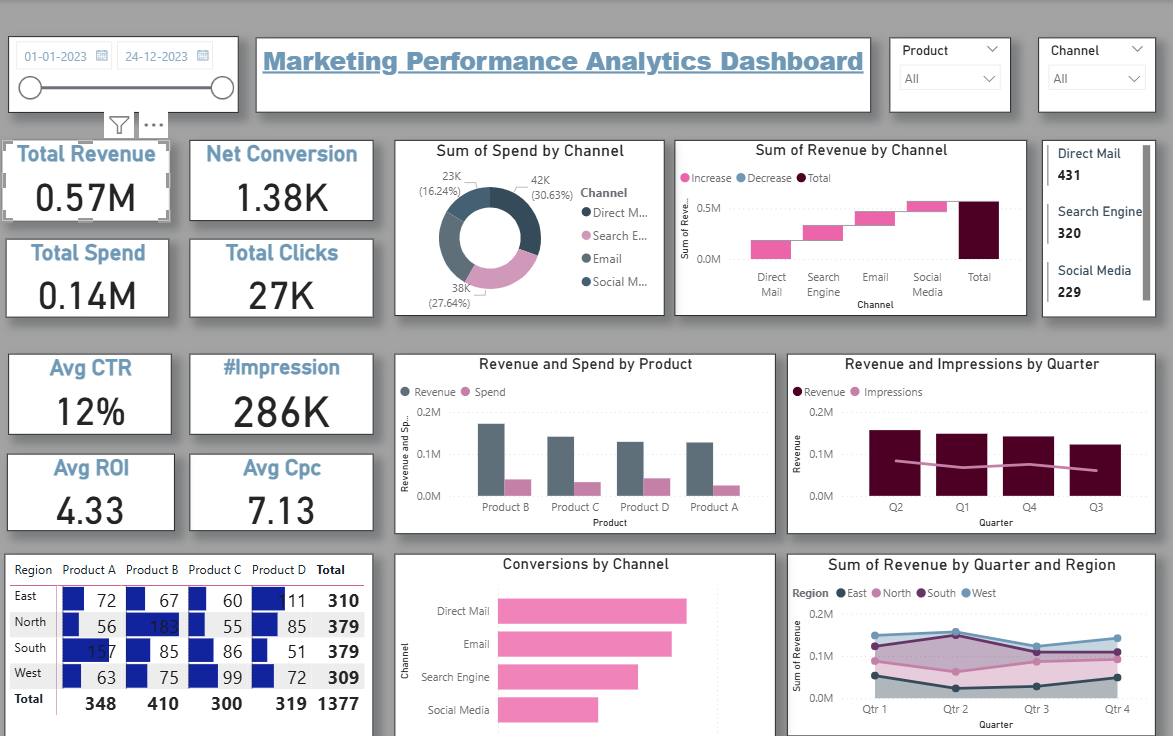

What the dashboard file says about the page in this screenshot:
{"tool":"powerbi","page":{"name":"Revenue Analysis","canvas":[1280,800],"ordinal":0},"visuals":[{"type":"card","title":"Total Clicks","fields":{"Values":["Sum(Sheet1.Clicks)"]},"box":[209.2,259.5,199.7,85.6],"z":0},{"type":"card","title":"Net Conversion","fields":{"Values":["Sum(Sheet1.Conversions)"]},"box":[209.2,152.2,199.7,88.3],"z":1000},{"type":"card","title":"Avg Cpc","fields":{"Values":["Avg(Sheet1.CPC)"]},"box":[209.2,493.2,199.7,84.2],"z":2000},{"type":"card","title":"#Impression","fields":{"Values":["Sum(Sheet1.Impressions)"]},"box":[209.2,384.5,199.7,88.3],"z":3000},{"type":"card","title":"Total Revenue","fields":{"Values":["Sum(Sheet1.Revenue)"]},"box":[5.4,152.2,182.1,88.3],"z":4000},{"type":"card","title":"Total Spend","fields":{"Values":["Sum(Sheet1.Spend)"]},"box":[9.5,259.5,178,85.6],"z":5000},{"type":"card","title":"Avg ROI","fields":{"Values":["Avg(Sheet1.ROI)"]},"box":[10.9,493.2,182.1,84.2],"z":6000},{"type":"card","title":"Avg CTR","fields":{"Values":["Avg(Sheet1.CTR)"]},"box":[12.2,384.5,178,88.3],"z":7000},{"type":"textbox","box":[281.3,40.8,668.5,81.5],"z":8000},{"type":"slicer","title":"Date","fields":{"Values":["Sheet1.Date"]},"box":[12.2,39.4,250,82.9],"z":9000},{"type":"waterfallChart","fields":{"Category":["Sheet1.Marketing_Channel"],"Y":["Sum(Sheet1.Revenue)"]},"box":[736.4,152.2,383.2,191.6],"z":10000},{"type":"donutChart","title":"Sum of Spend by Channel","fields":{"Category":["Sheet1.Channel"],"Y":["Sum(Sheet1.Spend)"]},"box":[432.1,152.2,293.5,191.6],"z":11000},{"type":"clusteredColumnChart","fields":{"Category":["Sheet1.Product"],"Y":["Sum(Sheet1.Revenue)","Sum(Sheet1.Spend)"]},"box":[432.1,384.5,414.4,195.7],"z":12000},{"type":"stackedAreaChart","fields":{"Category":["Sheet1.Date.Variation.Date Hierarchy.Quarter"],"Y":["Sum(Sheet1.Revenue)"],"Series":["Sheet1.Region"]},"box":[858.7,601.9,400.8,198.4],"z":13000},{"type":"multiRowCard","fields":{"Values":["Sum(Sheet1.Conversions)","Sheet1.Channel"]},"box":[1135.9,152.2,123.6,192.9],"z":14000},{"type":"pivotTable","fields":{"Rows":["Sheet1.Region"],"Columns":["Sheet1.Product"],"Values":["Sum(Sheet1.Conversions)"]},"box":[8.2,601.9,400.8,228.3],"z":15000},{"type":"lineStackedColumnComboChart","fields":{"Category":["Sheet1.Quarter"],"Y":["Sum(Sheet1.Revenue)"],"Y2":["Sum(Sheet1.Impressions)"]},"box":[858.7,384.5,400.8,195.7],"z":16000},{"type":"clusteredBarChart","fields":{"Category":["Sheet1.Channel"],"Y":["Sum(Sheet1.Conversions)"]},"box":[432.1,601.9,414.4,239.1],"z":17000},{"type":"slicer","fields":{"Values":["Sheet1.Product"]},"box":[970.1,40.8,131.8,81.5],"z":18000},{"type":"slicer","fields":{"Values":["Sheet1.Channel"]},"box":[1131.8,40.8,127.7,81.5],"z":19000}]}

Visuals, with their boxes in screenshot pixels (x1, y1, x2, y2), scaled from the page's 1280x800 canvas onto the 1173x736 screenshot:
"Total Clicks" card: bbox=(192, 239, 375, 317)
"Net Conversion" card: bbox=(192, 140, 375, 221)
"Avg Cpc" card: bbox=(192, 454, 375, 531)
"#Impression" card: bbox=(192, 354, 375, 435)
"Total Revenue" card: bbox=(5, 140, 172, 221)
"Total Spend" card: bbox=(9, 239, 172, 317)
"Avg ROI" card: bbox=(10, 454, 177, 531)
"Avg CTR" card: bbox=(11, 354, 174, 435)
textbox: bbox=(258, 38, 870, 113)
"Date" slicer: bbox=(11, 36, 240, 113)
waterfallChart - Sheet1.Marketing_Channel x Sum(Sheet1.Revenue): bbox=(675, 140, 1026, 316)
"Sum of Spend by Channel" donutChart: bbox=(396, 140, 665, 316)
clusteredColumnChart - Sheet1.Product x Sum(Sheet1.Revenue): bbox=(396, 354, 776, 534)
stackedAreaChart - Sheet1.Date.Variation.Date Hierarchy.Quarter x Sum(Sheet1.Revenue): bbox=(787, 554, 1154, 735)
multiRowCard - Sum(Sheet1.Conversions) x Sheet1.Channel: bbox=(1041, 140, 1154, 317)
pivotTable - Sheet1.Region x Sheet1.Product: bbox=(8, 554, 375, 735)
lineStackedColumnComboChart - Sheet1.Quarter x Sum(Sheet1.Revenue): bbox=(787, 354, 1154, 534)
clusteredBarChart - Sheet1.Channel x Sum(Sheet1.Conversions): bbox=(396, 554, 776, 735)
slicer - Sheet1.Product: bbox=(889, 38, 1010, 113)
slicer - Sheet1.Channel: bbox=(1037, 38, 1154, 113)
